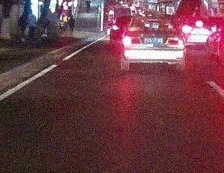L_light: (122, 36, 141, 44)
R_light: (167, 38, 184, 45)
T_light: (148, 21, 158, 23)
night-left: (120, 18, 184, 69)
